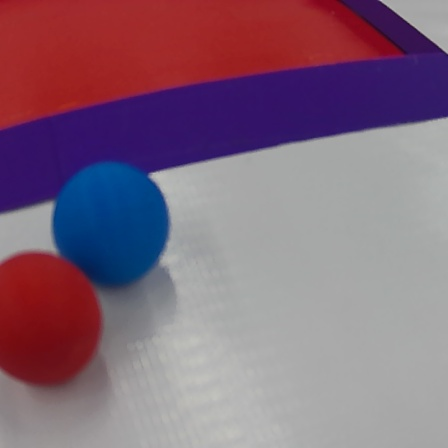blue: (51, 162, 171, 284)
red: (1, 243, 105, 396)
red_aim: (2, 0, 448, 222)
